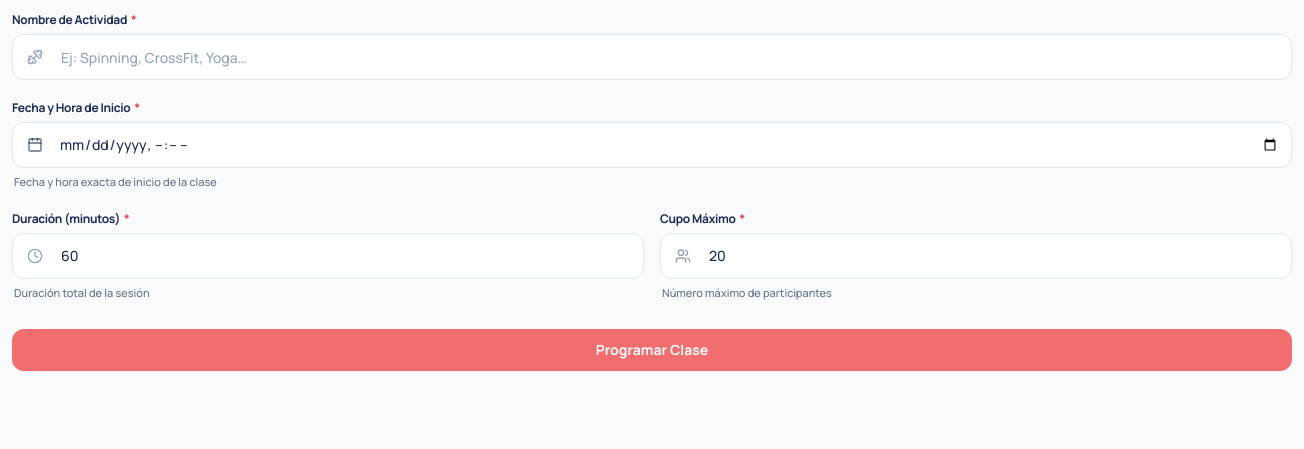
it: ClaseForm Component — Modo Alta › shows validation errors when submitting with empty fields
The image size is (1304, 449).
// Clear the default "60" value so duration is empty
Clear the number field labelled "Duración (minutos)*": (345,256) [47,234,643,278]
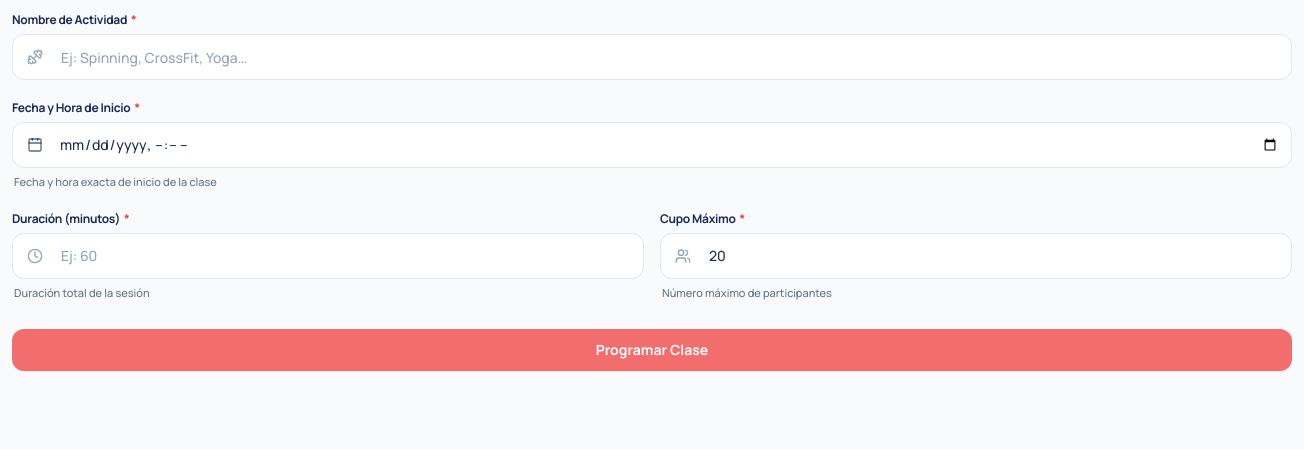
Click the button "Programar Clase": (652,350) [12,329,1292,371]
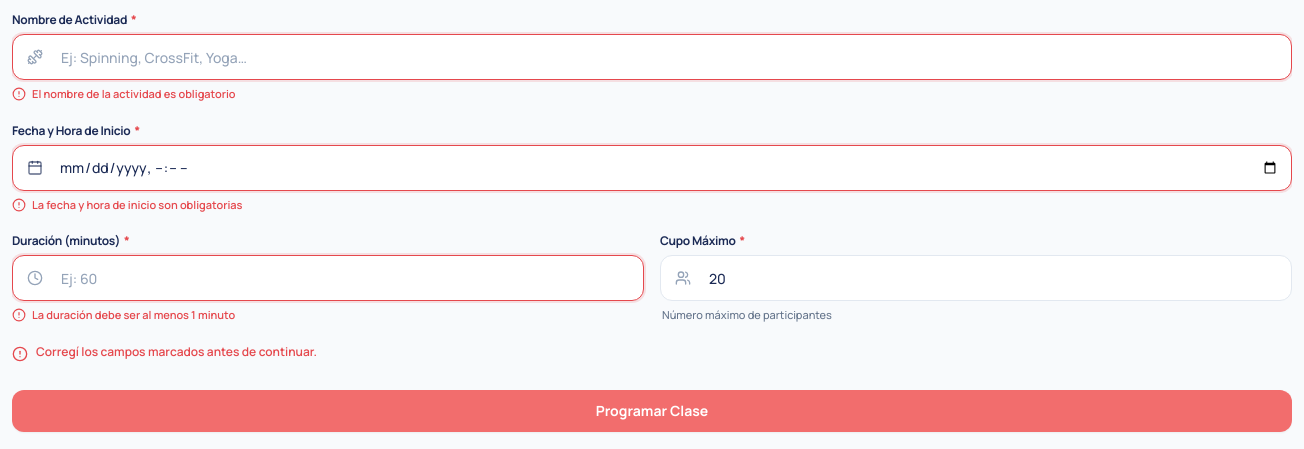
Result: the text "El nombre de la actividad es obligatorio" is shown at [32,86,236,102]
Result: the text "La fecha y hora de inicio son obligatorias" is shown at [32,196,242,213]
Result: the text "La duración debe ser al menos 1 minuto" is shown at [32,307,235,324]
